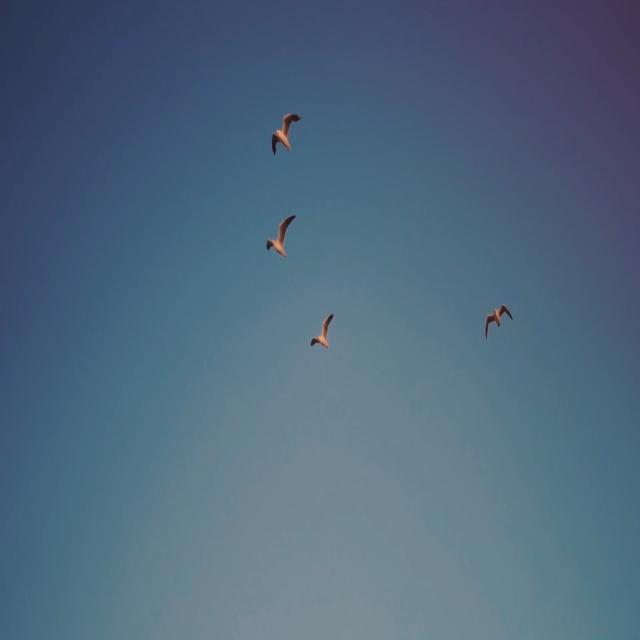bird: (266, 106, 302, 156), (263, 209, 297, 261), (482, 298, 514, 341), (308, 311, 336, 352)
